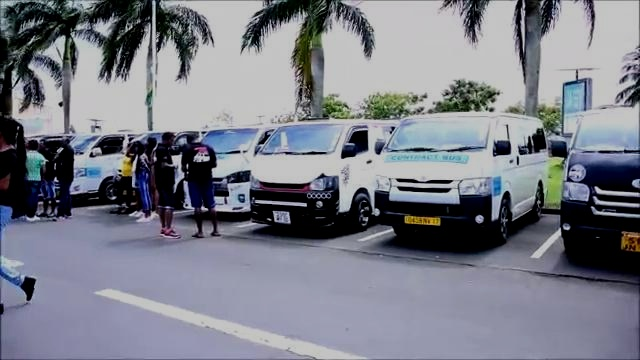van: (380, 114, 553, 251), (249, 119, 380, 228)
